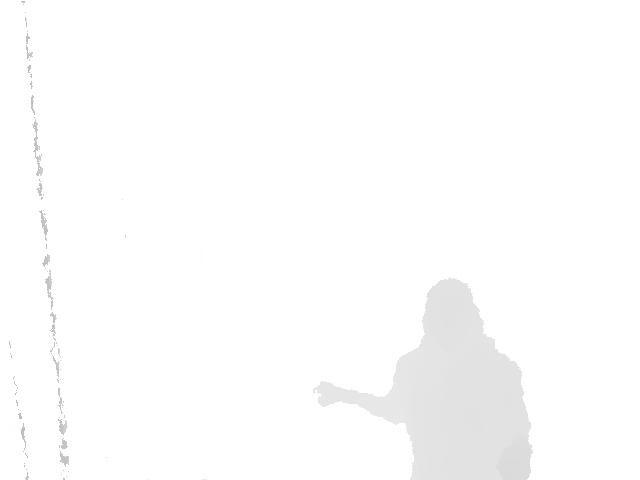head: (422, 278, 484, 348)
person: (314, 278, 534, 480)
